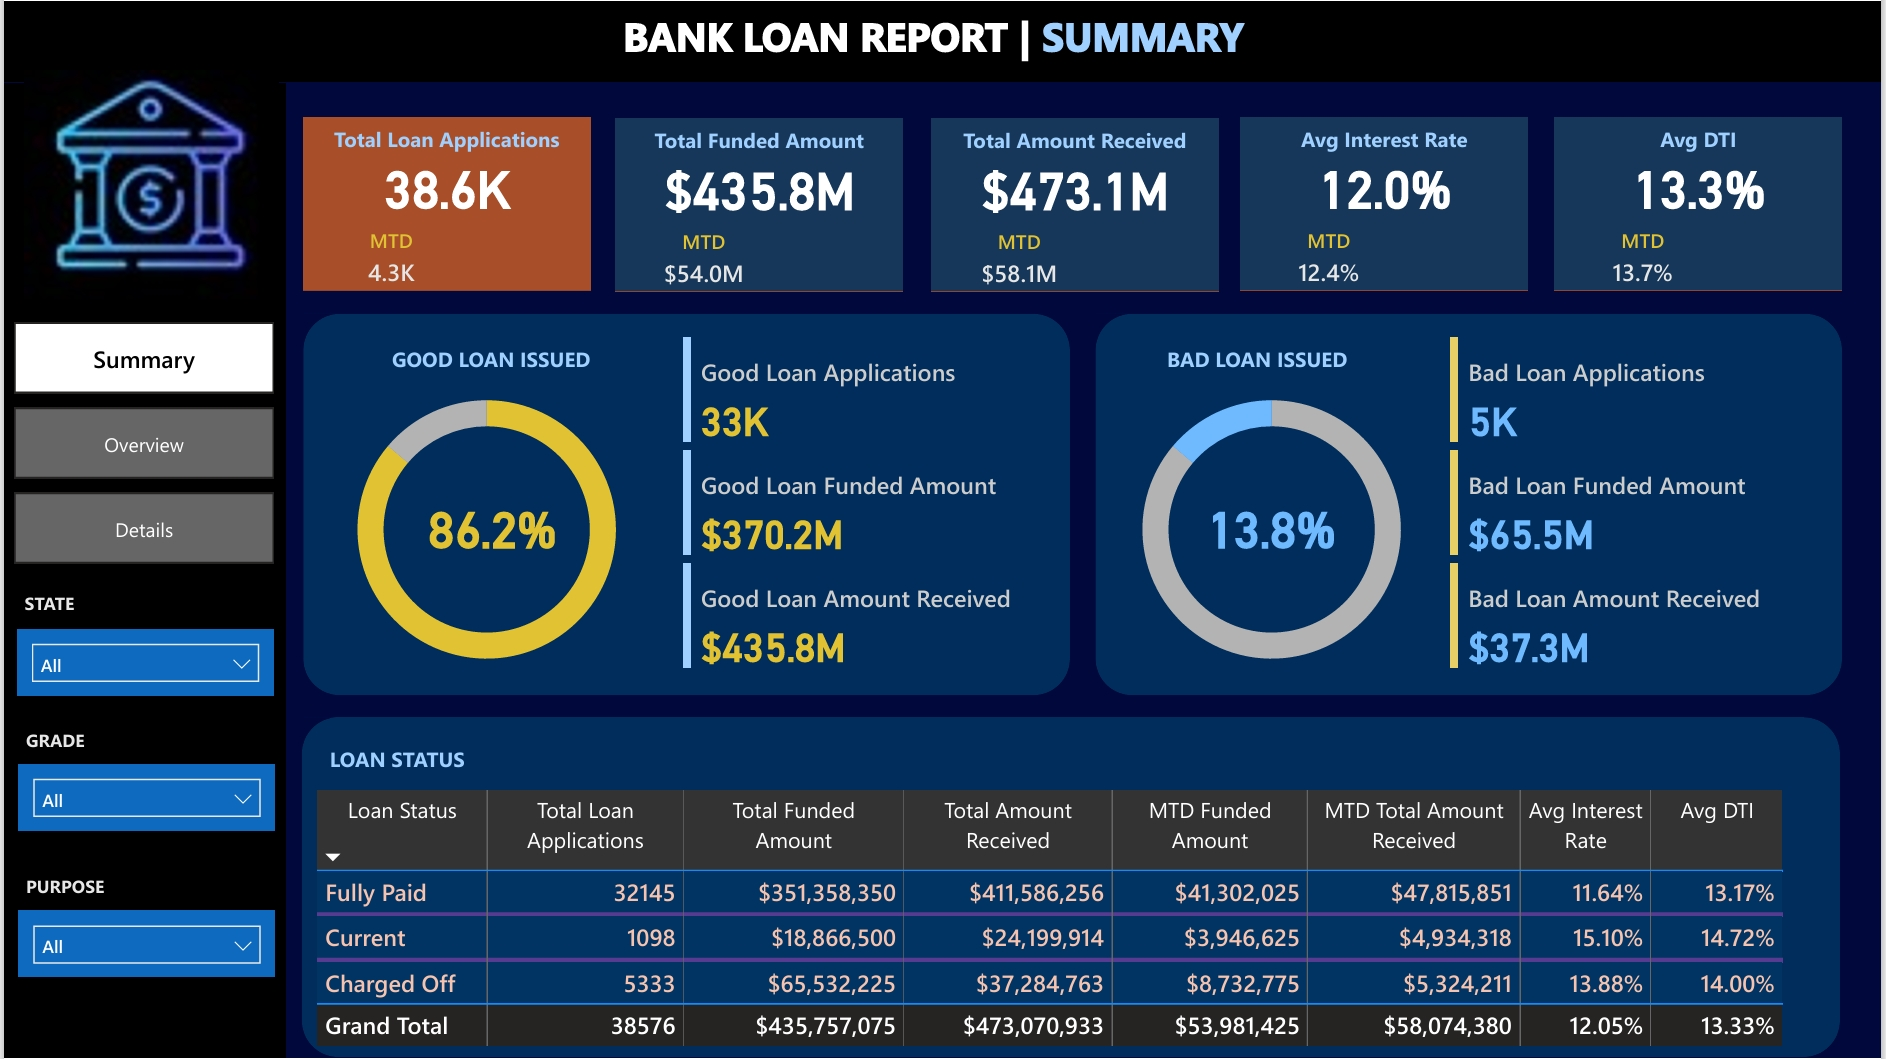

This screenshot's page, from the dashboard's own definition file:
{"tool":"powerbi","page":{"name":"Summary","canvas":[1280,720],"ordinal":0},"visuals":[{"type":"shape","box":[204.3,78.8,195.6,117.7],"z":0,"group":"g1"},{"type":"shape","box":[843.7,78.8,195.6,117.7],"z":0,"group":"g4"},{"type":"shape","box":[1056.8,78.8,195.6,117.7],"z":0,"group":"g5"},{"type":"shape","box":[417.4,80,195.6,117.7],"z":0,"group":"g2"},{"type":"shape","box":[631.8,80,195.6,117.7],"z":0,"group":"g3"},{"type":"shape","box":[203.8,212.5,522.5,260],"z":0},{"type":"shape","box":[0,0,1280.4,55],"z":1000},{"type":"card","fields":{"Values":["bank_loan_db bank_loan_data.Total Loan Applications"]},"box":[190,85.2,224.3,81.1],"z":1000,"group":"g1"},{"type":"card","fields":{"Values":["bank_loan_db bank_loan_data.Avg Interest Rate"]},"box":[829.4,85.2,224.3,81.1],"z":1000,"group":"g4"},{"type":"card","fields":{"Values":["bank_loan_db bank_loan_data.Avg DTI"]},"box":[1042.5,85.2,224.3,81.1],"z":1000,"group":"g5"},{"type":"card","fields":{"Values":["bank_loan_db bank_loan_data.Total Funded Amount"]},"box":[403.1,86.4,224.3,81.1],"z":1000,"group":"g2"},{"type":"card","fields":{"Values":["bank_loan_db bank_loan_data.Total Amount Received"]},"box":[617.5,86.4,224.3,81.1],"z":1000,"group":"g3"},{"type":"shape","box":[0,55.7,192.5,664.9],"z":2000},{"type":"textbox","box":[204.3,78.8,195.6,31.8],"z":2000,"group":"g1"},{"type":"textbox","box":[843.7,78.8,195.6,31.8],"z":2000,"group":"g4"},{"type":"textbox","box":[1056.8,78.8,195.6,31.8],"z":2000,"group":"g5"},{"type":"textbox","box":[417.4,80,195.6,31.8],"z":2000,"group":"g2"},{"type":"textbox","box":[631.8,80,195.6,31.8],"z":2000,"group":"g3"},{"type":"card","title":"MTD","fields":{"Values":["bank_loan_db bank_loan_data.MTD Loan Applications"]},"box":[225,153.6,77.9,42.9],"z":3000,"group":"g1"},{"type":"card","title":"MTD","fields":{"Values":["bank_loan_db bank_loan_data.MTD Avg Int Rate"]},"box":[864.4,153.6,77.9,42.9],"z":3000,"group":"g4"},{"type":"card","title":"MTD","fields":{"Values":["bank_loan_db bank_loan_data.MTD Avg DTI"]},"box":[1077.5,153.6,77.9,42.9],"z":3000,"group":"g5"},{"type":"card","title":"MTD","fields":{"Values":["bank_loan_db bank_loan_data.MTD Funded Amount"]},"box":[438.1,154.8,77.9,42.9],"z":3000,"group":"g2"},{"type":"card","title":"MTD","fields":{"Values":["bank_loan_db bank_loan_data.MTD Total Amount Received"]},"box":[652.5,154.8,77.9,42.9],"z":3000,"group":"g3"},{"type":"textbox","box":[233.8,228.8,196.2,31.2],"z":3000},{"type":"card","fields":{"Values":["bank_loan_db bank_loan_data.Good Loan %"]},"box":[258.8,328.8,147.5,57.5],"z":4000},{"type":"textbox","box":[416.7,0,447,47.7],"z":5000},{"type":"group","id":"g1","title":"Group 1","box":[190,78.8,224.3,117.7],"z":6000},{"type":"group","id":"g2","title":"Group 1","box":[403.1,80,224.3,117.7],"z":7000},{"type":"group","id":"g3","title":"Group 1","box":[617.5,80,224.3,117.7],"z":8000},{"type":"group","id":"g4","title":"Group 1","box":[829.4,78.8,224.3,117.7],"z":9000},{"type":"group","id":"g5","title":"Group 1","box":[1042.5,78.8,224.3,117.7],"z":10000},{"type":"shape","box":[743.8,212.5,508.8,260],"z":11000},{"type":"donutChart","fields":{"Category":["bank_loan_db bank_loan_data.Good vs Bad Loan"],"Y":["bank_loan_db bank_loan_data.Total Loan Applications"]},"box":[203.8,245,250,230],"z":12000},{"type":"cardVisual","fields":{"Data":["bank_loan_db bank_loan_data.Good Loan Applications","bank_loan_db bank_loan_data.Good Loan Funded Amount","bank_loan_db bank_loan_data.Good Loan Amount Received"]},"box":[457.5,223.8,253.8,236.2],"z":13000},{"type":"textbox","box":[756.2,228.8,196.2,31.2],"z":14000},{"type":"donutChart","fields":{"Category":["bank_loan_db bank_loan_data.Good vs Bad Loan"],"Y":["bank_loan_db bank_loan_data.Total Loan Applications"]},"box":[738.8,245,250,230],"z":15000},{"type":"card","fields":{"Values":["bank_loan_db bank_loan_data.Bad Loan %"]},"box":[790,328.8,147.5,57.5],"z":16000},{"type":"cardVisual","fields":{"Data":["bank_loan_db bank_loan_data.Bad Loan Applications","bank_loan_db bank_loan_data.Bad Loan Funded Amount","bank_loan_db bank_loan_data.Bad Loan Amount Received"]},"box":[981.2,223.8,253.8,236.2],"z":17000},{"type":"shape","box":[203.3,488.3,1048.3,231.7],"z":18000},{"type":"tableEx","fields":{"Values":["bank_loan_db bank_loan_data.loan_status","bank_loan_db bank_loan_data.Total Loan Applications","bank_loan_db bank_loan_data.Total Funded Amount","bank_loan_db bank_loan_data.Total Amount Received","bank_loan_db bank_loan_data.MTD Funded Amount","bank_loan_db bank_loan_data.MTD Total Amount Received","bank_loan_db bank_loan_data.Avg Interest Rate","bank_loan_db bank_loan_data.Avg DTI"]},"box":[208.3,533.3,1026.7,186.7],"z":19000},{"type":"textbox","box":[216.7,501.7,196.7,31.7],"z":20000},{"type":"slicer","fields":{"Values":["bank_loan_db bank_loan_data.address_state"]},"box":[8.8,427.5,175,45],"z":21000},{"type":"textbox","box":[8.8,396.2,55,31.2],"z":22000},{"type":"slicer","fields":{"Values":["bank_loan_db bank_loan_data.grade"]},"box":[10,520,175,45],"z":23000},{"type":"textbox","box":[10,488.8,65,31.2],"z":24000},{"type":"slicer","fields":{"Values":["bank_loan_db bank_loan_data.purpose"]},"box":[10,620,175,45],"z":25000},{"type":"textbox","box":[10,588.8,65,31.2],"z":26000},{"type":"image","box":[8.6,40,182.9,170],"z":27000},{"type":"pageNavigator","box":[6.7,218.9,177.8,166.7],"z":28000}]}

Visuals, with their boxes in screenshot pixels (x1, y1, x2, y2), scaled from the page's 1280x720 canvas onto the 1886x1059 screenshot:
shape: box(301, 116, 589, 289)
shape: box(1243, 116, 1531, 289)
shape: box(1557, 116, 1845, 289)
shape: box(615, 118, 903, 291)
shape: box(931, 118, 1219, 291)
shape: box(300, 313, 1070, 695)
shape: box(0, 0, 1885, 81)
card - bank_loan_db bank_loan_data.Total Loan Applications: box(280, 125, 610, 245)
card - bank_loan_db bank_loan_data.Avg Interest Rate: box(1222, 125, 1553, 245)
card - bank_loan_db bank_loan_data.Avg DTI: box(1536, 125, 1867, 245)
card - bank_loan_db bank_loan_data.Total Funded Amount: box(594, 127, 924, 246)
card - bank_loan_db bank_loan_data.Total Amount Received: box(910, 127, 1240, 246)
shape: box(0, 82, 284, 1058)
textbox: box(301, 116, 589, 163)
textbox: box(1243, 116, 1531, 163)
textbox: box(1557, 116, 1845, 163)
textbox: box(615, 118, 903, 164)
textbox: box(931, 118, 1219, 164)
"MTD" card: box(332, 226, 446, 289)
"MTD" card: box(1274, 226, 1388, 289)
"MTD" card: box(1588, 226, 1702, 289)
"MTD" card: box(646, 228, 760, 291)
"MTD" card: box(961, 228, 1076, 291)
textbox: box(344, 337, 634, 382)
card - bank_loan_db bank_loan_data.Good Loan %: box(381, 484, 599, 568)
textbox: box(614, 0, 1273, 70)
"Group 1" group: box(280, 116, 610, 289)
"Group 1" group: box(594, 118, 924, 291)
"Group 1" group: box(910, 118, 1240, 291)
"Group 1" group: box(1222, 116, 1553, 289)
"Group 1" group: box(1536, 116, 1867, 289)
shape: box(1096, 313, 1846, 695)
donutChart - bank_loan_db bank_loan_data.Good vs Bad Loan x bank_loan_db bank_loan_data.Total Loan Applications: box(300, 360, 669, 699)
cardVisual - bank_loan_db bank_loan_data.Good Loan Applications x bank_loan_db bank_loan_data.Good Loan Funded Amount: box(674, 329, 1048, 677)
textbox: box(1114, 337, 1403, 382)
donutChart - bank_loan_db bank_loan_data.Good vs Bad Loan x bank_loan_db bank_loan_data.Total Loan Applications: box(1089, 360, 1457, 699)
card - bank_loan_db bank_loan_data.Bad Loan %: box(1164, 484, 1381, 568)
cardVisual - bank_loan_db bank_loan_data.Bad Loan Applications x bank_loan_db bank_loan_data.Bad Loan Funded Amount: box(1446, 329, 1820, 677)
shape: box(300, 718, 1844, 1058)
tableEx - bank_loan_db bank_loan_data.loan_status x bank_loan_db bank_loan_data.Total Loan Applications: box(307, 784, 1820, 1058)
textbox: box(319, 738, 609, 785)
slicer - bank_loan_db bank_loan_data.address_state: box(13, 629, 271, 695)
textbox: box(13, 583, 94, 629)
slicer - bank_loan_db bank_loan_data.grade: box(15, 765, 273, 831)
textbox: box(15, 719, 111, 765)
slicer - bank_loan_db bank_loan_data.purpose: box(15, 912, 273, 978)
textbox: box(15, 866, 111, 912)
image: box(13, 59, 282, 309)
pageNavigator: box(10, 322, 272, 567)
